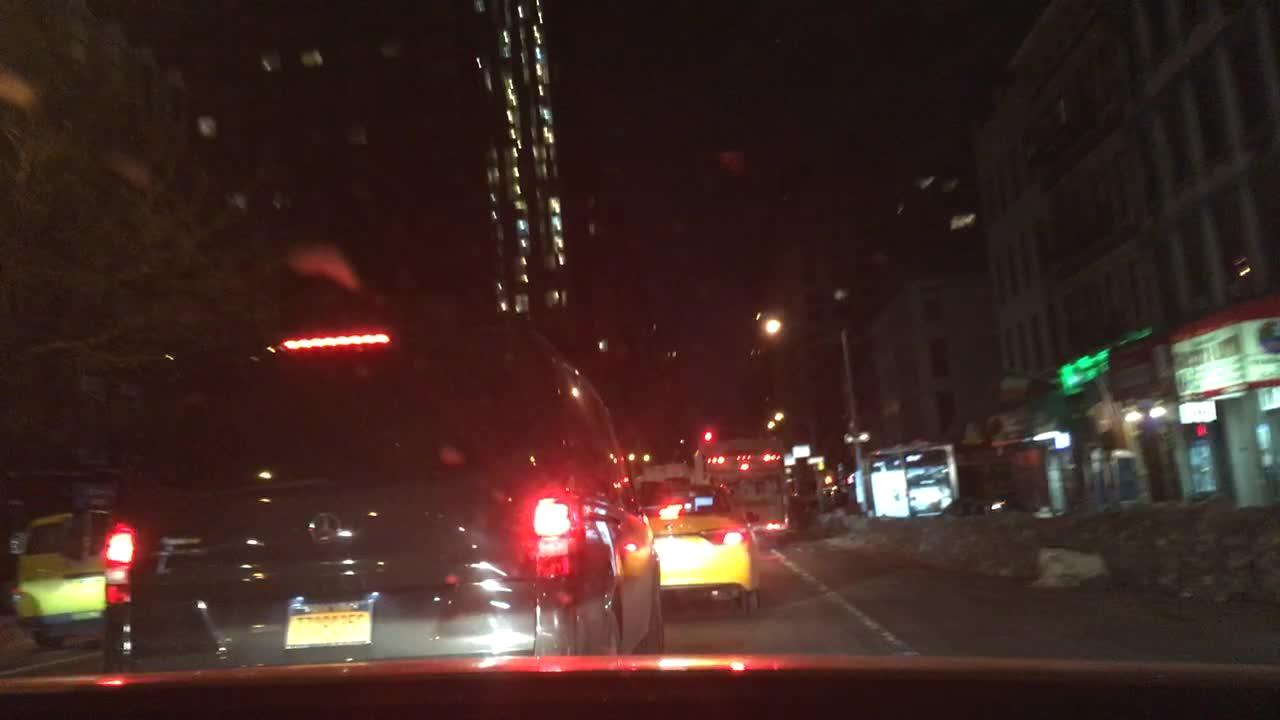Mercedes: (304, 508, 342, 548)
